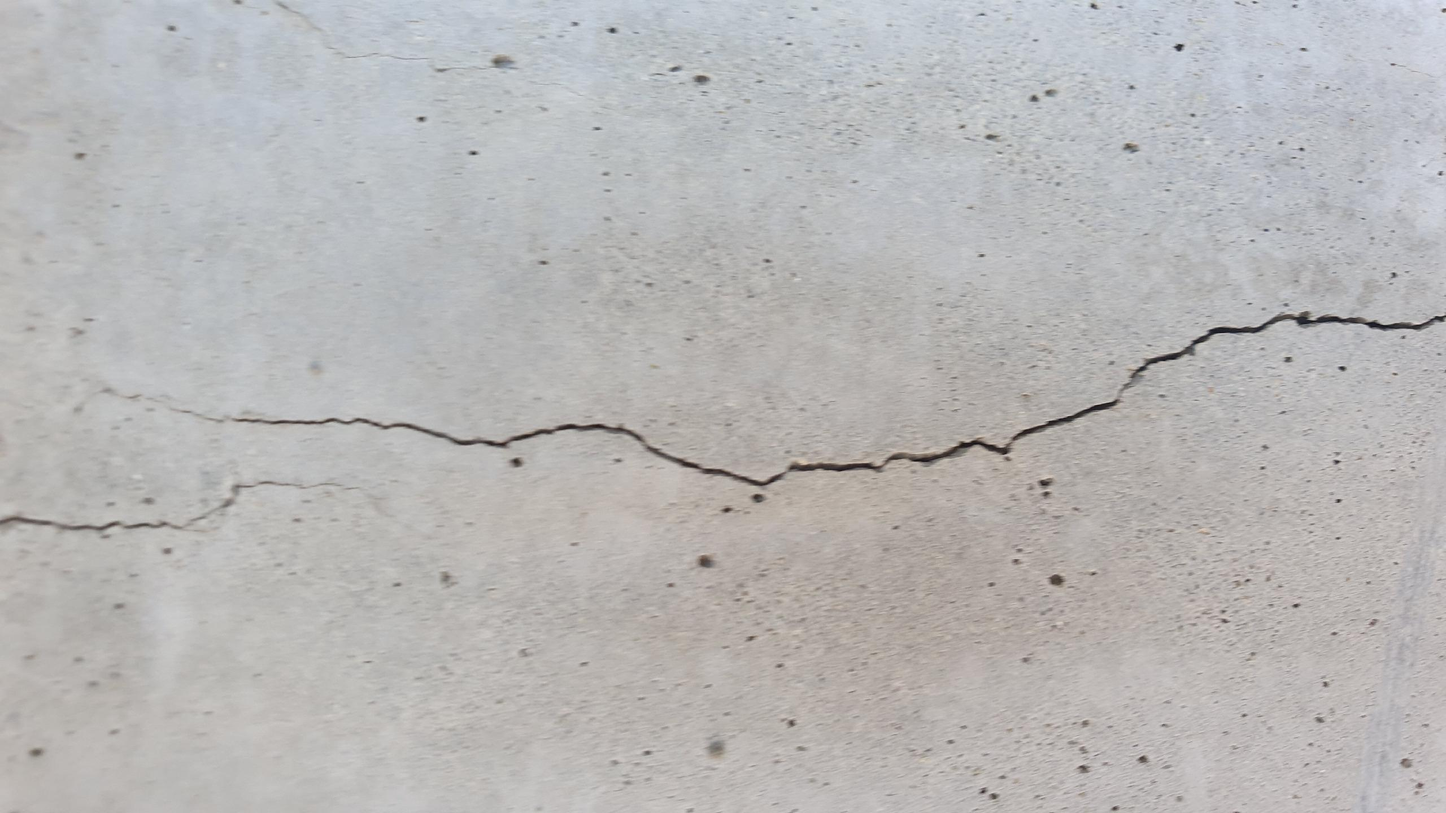crack: (234, 313, 1445, 485), (1, 481, 342, 531)
